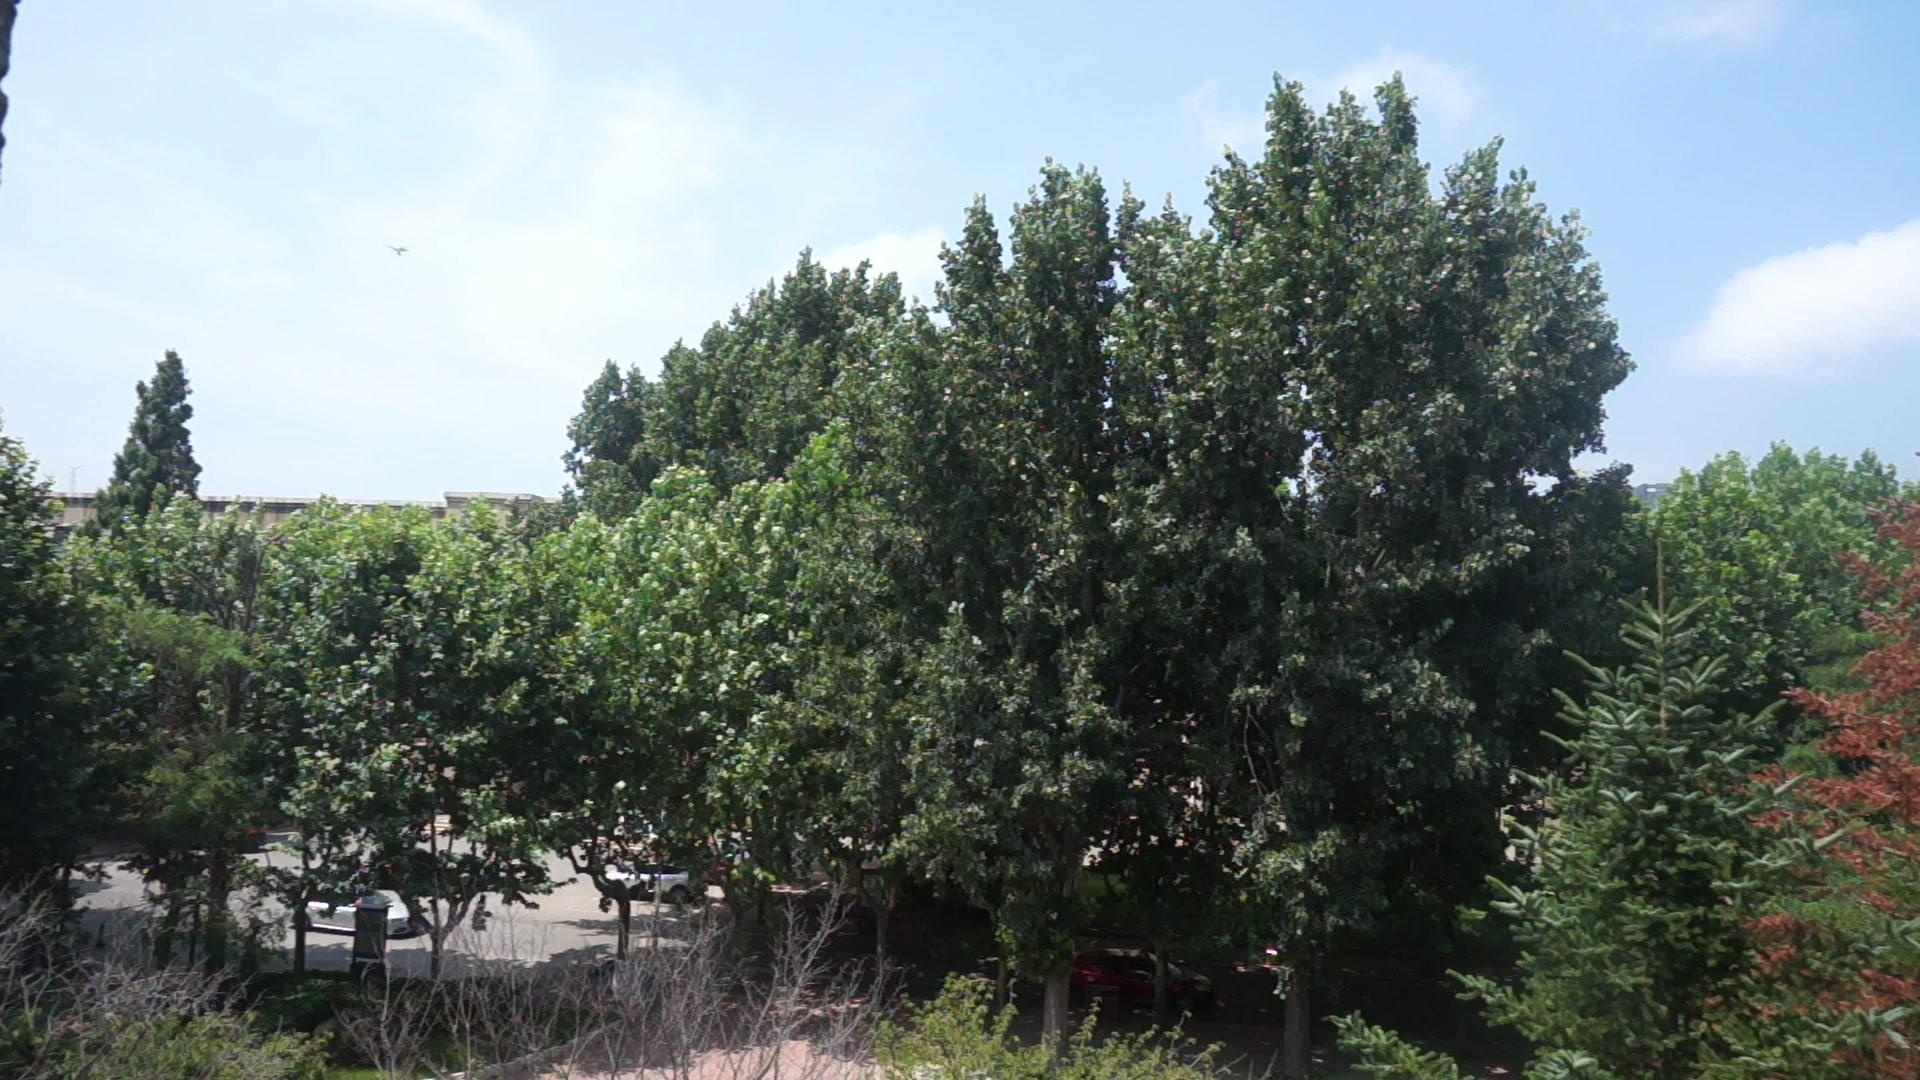UAV: (390, 247, 409, 257)
